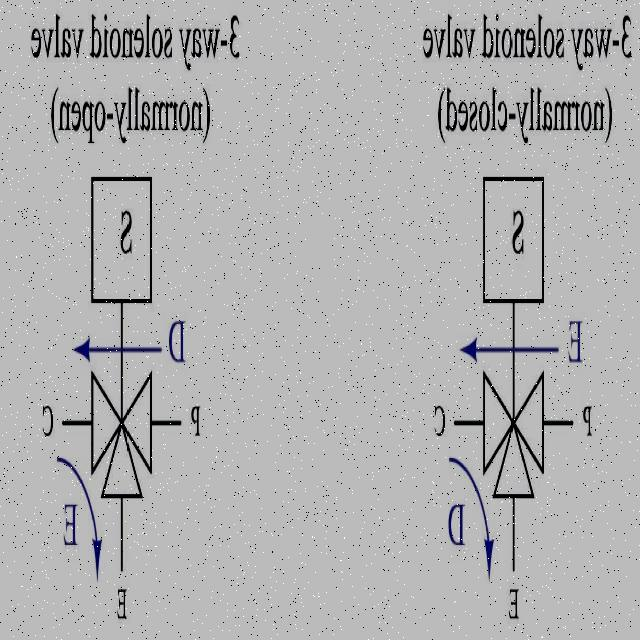3 Way Gate Valve: (481, 363, 559, 504), (89, 362, 157, 514)
